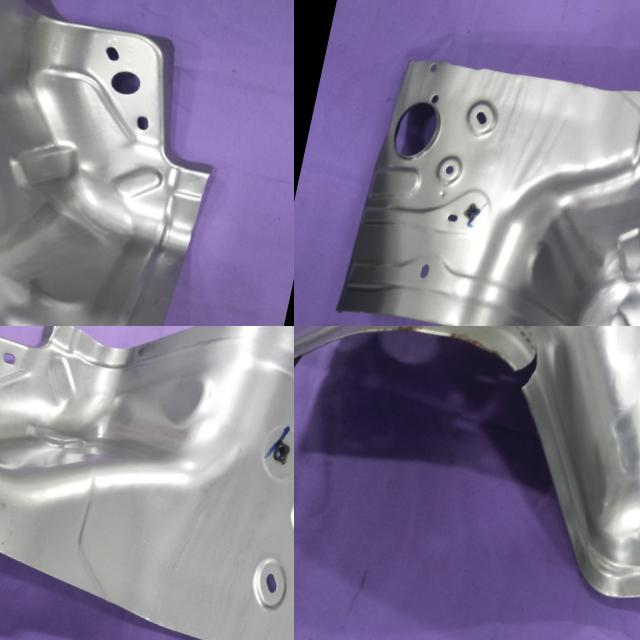Defect: (491, 326, 560, 416)
Healthy: (330, 17, 640, 326), (0, 326, 294, 640), (0, 0, 256, 326)
